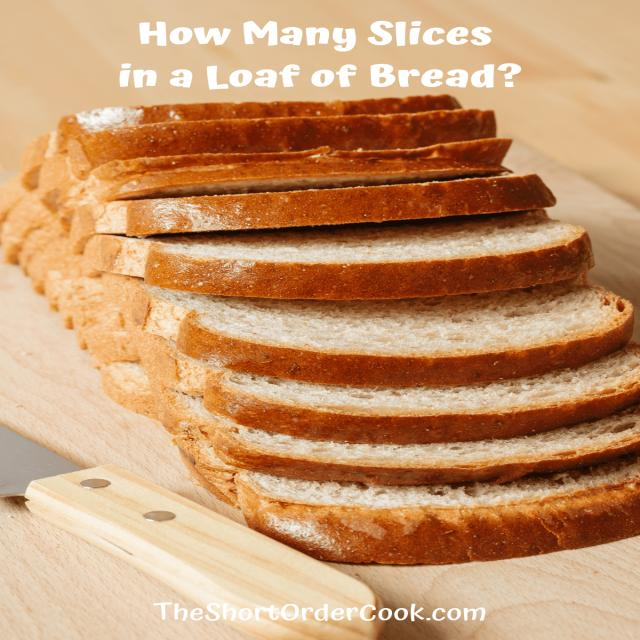Bread: (120, 276, 634, 386), (86, 210, 594, 300), (234, 454, 639, 564), (204, 344, 639, 444), (212, 406, 639, 485)
